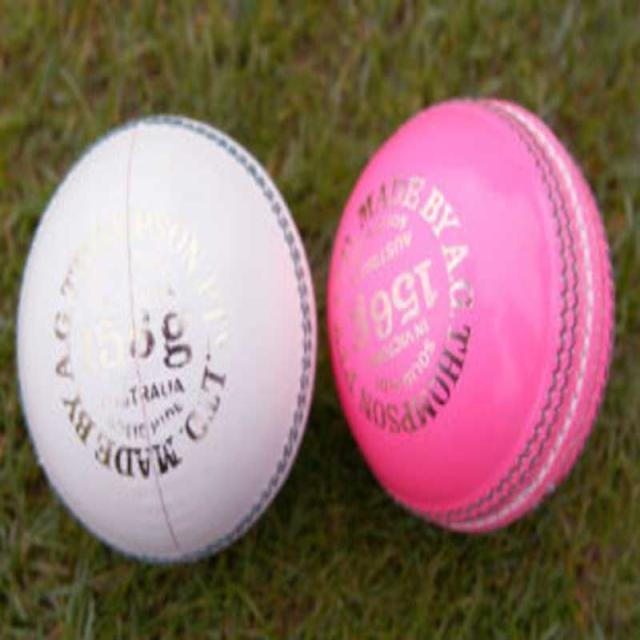cricket ball: (15, 113, 318, 567), (326, 95, 615, 534)
